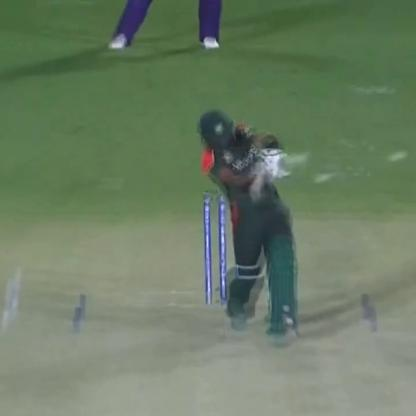ball: (316, 164, 341, 189), (390, 146, 413, 166)
bat: (248, 146, 296, 203)
pitch: (2, 250, 416, 416)
